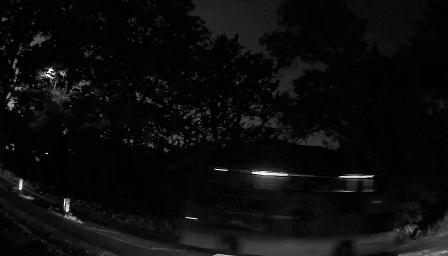Cars: (185, 155, 397, 247)
